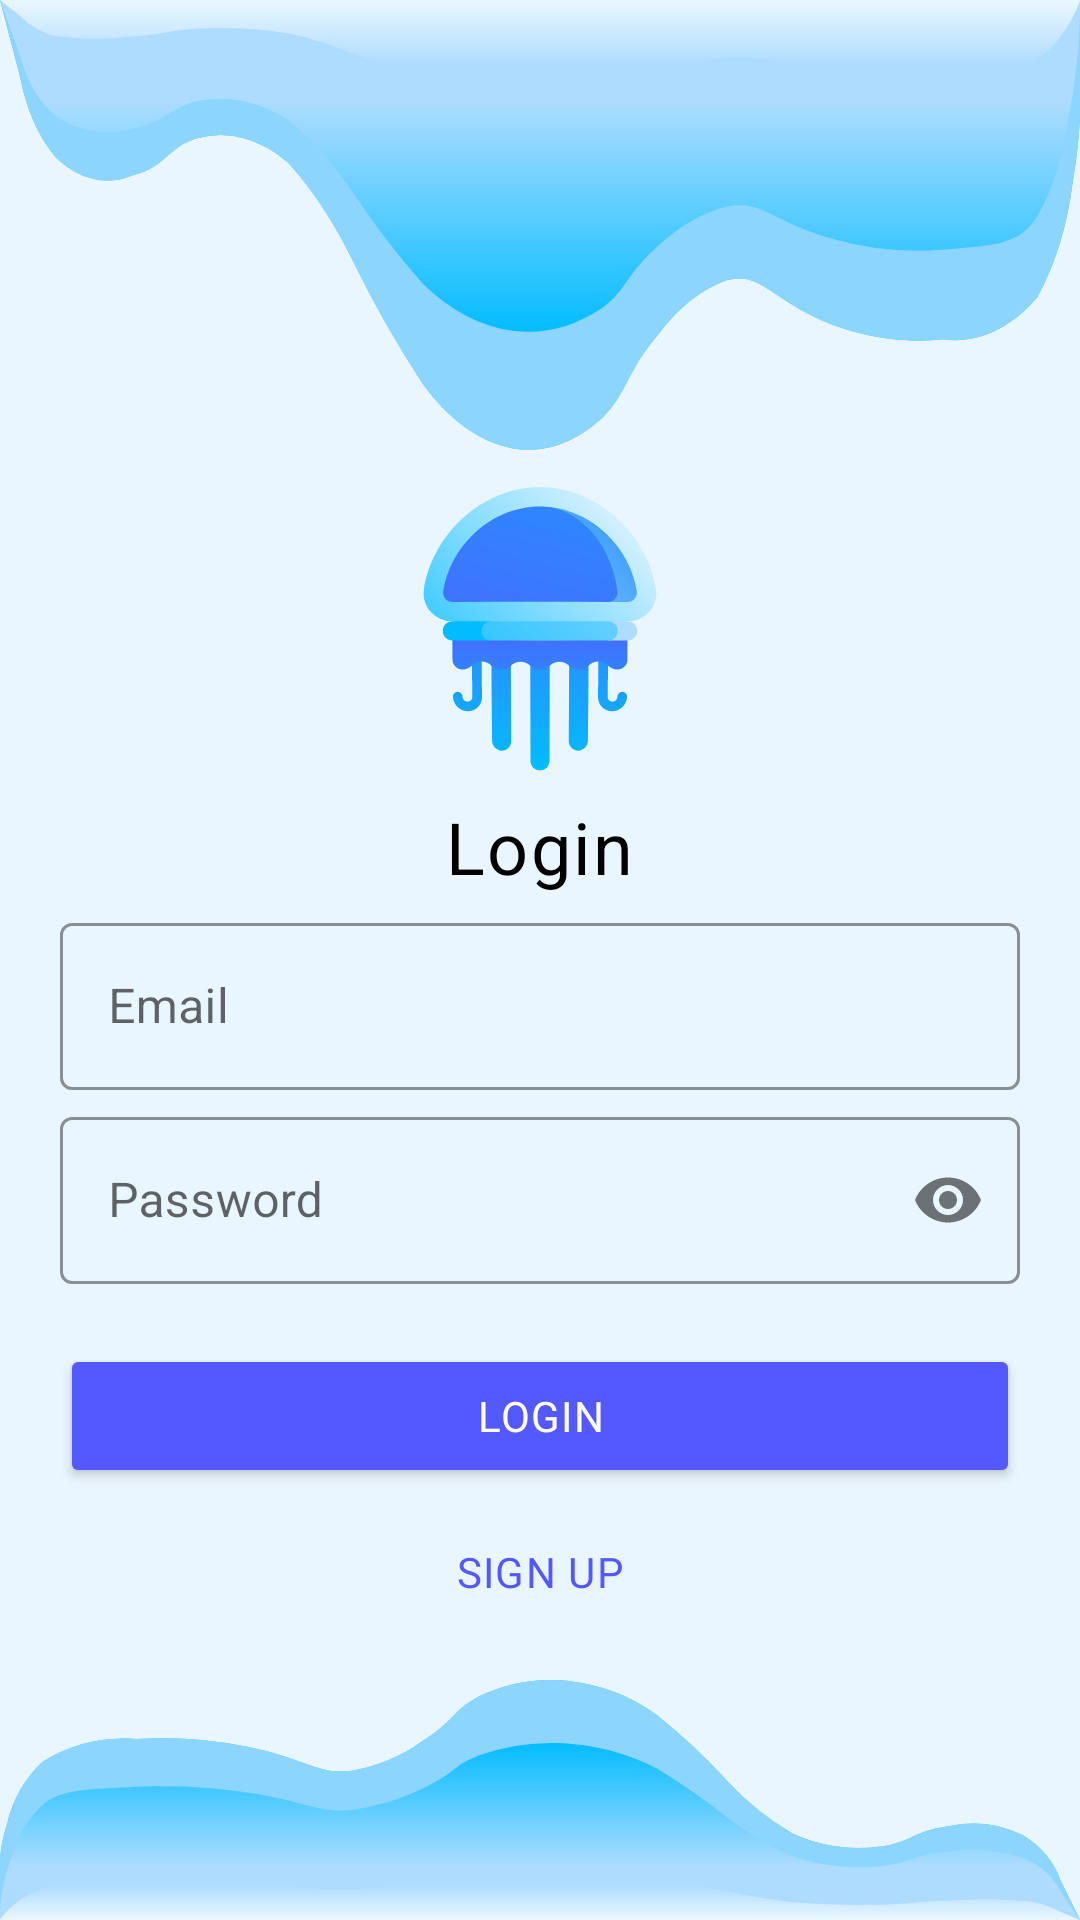

Point at icon controls on the screen. Image size 1080 × 1920, points as (x=x, y=y).
jellyfish: (x=539, y=629)
